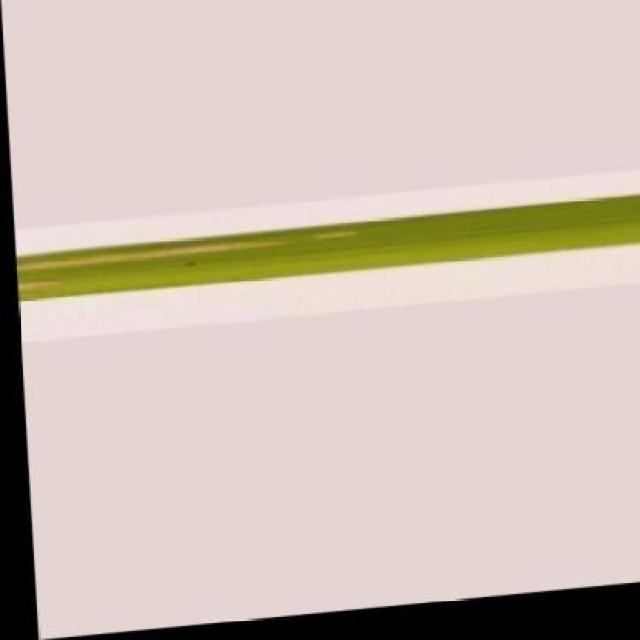Brown_Spot: (12, 203, 640, 308)
